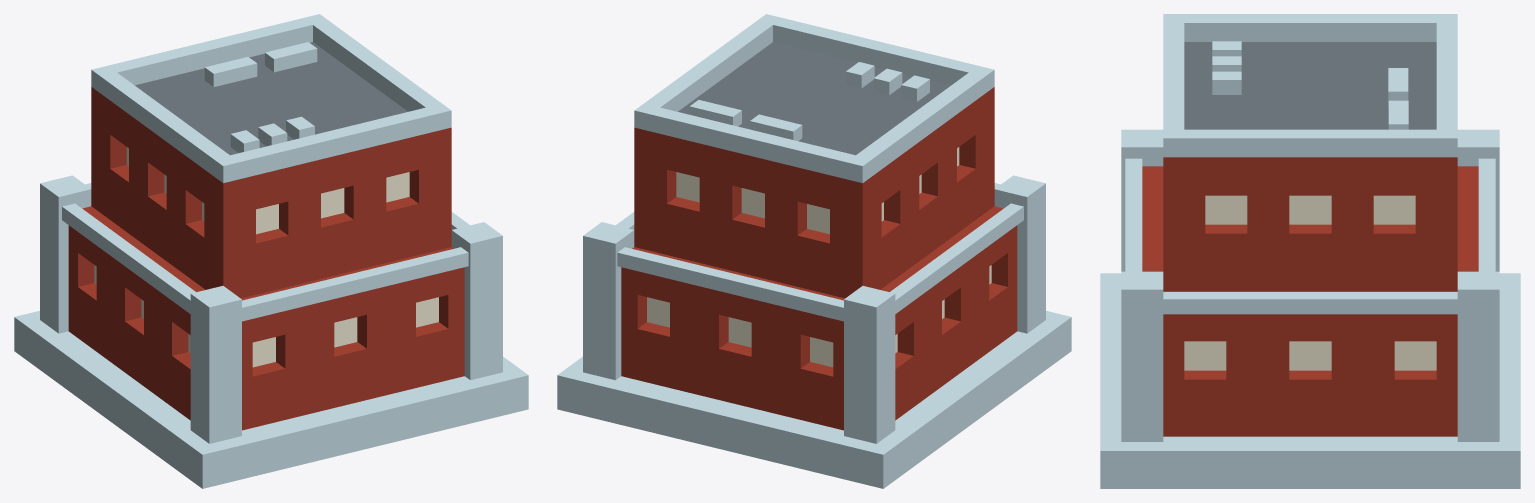
File: Building_6_Base_Extra (Red).obj
3 views of the same model, side by side, from view 1: azimuth 30°, elevation 25°; view 2: azimuth 150°, elevation 25°; view 3: azimuth 270°, elevation 25° (orthographic). The views are drawn at different scales.
Parts seen in each view (by area): view 1: Building_6_Base_Extra_(Red); view 2: Building_6_Base_Extra_(Red); view 3: Building_6_Base_Extra_(Red).
Boxes of the visible parts, box(x1,y1,x2,y2) form: Building_6_Base_Extra_(Red): box(14, 14, 528, 488); Building_6_Base_Extra_(Red): box(557, 14, 1071, 488); Building_6_Base_Extra_(Red): box(1100, 14, 1520, 488).
Size of the model in its own units: 2 by 1.7 by 2.
